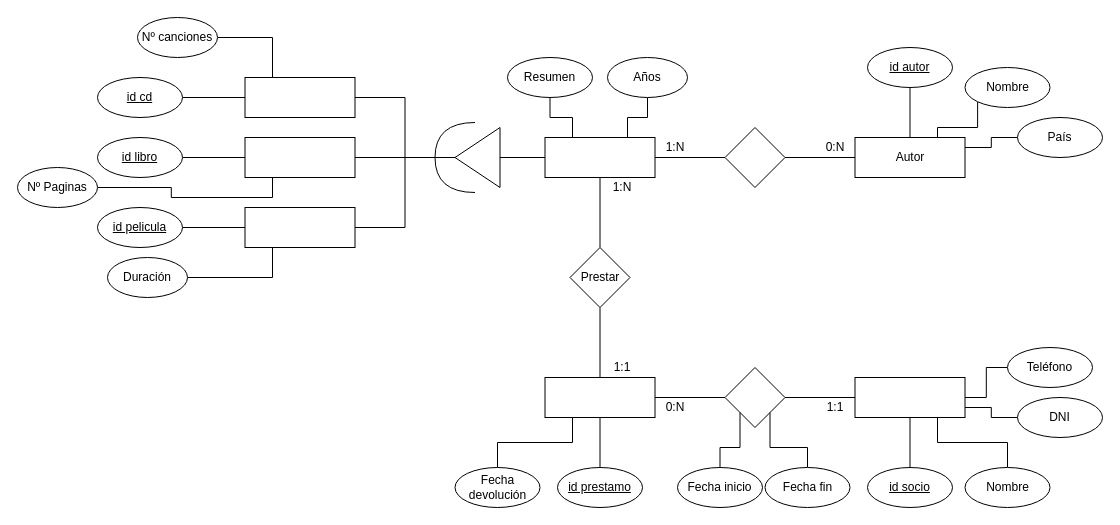
This 1120x525 diagram has some shape labels left out. Here are the shapes that lost their labels. From the top down, the centre of each, then its label:
the point at 299,97: CD
the point at 299,157: Libro
the point at 599,157: Artículo
the point at 754,157: Es
the point at 299,227: Película
the point at 599,397: Prestamo
the point at 754,397: Pedir
the point at 909,397: Socio
